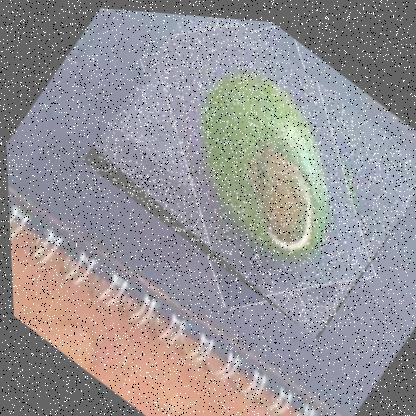orange_rotten: (73, 4, 415, 343)
